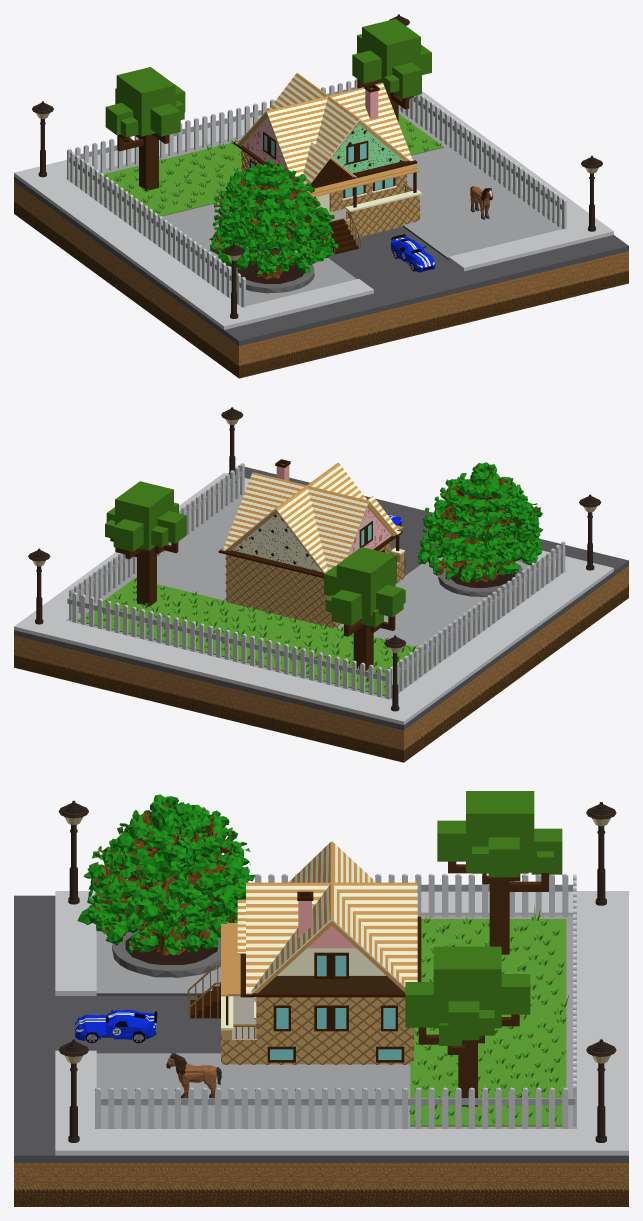
The picture shows the model from 3 angles, top to bottom: view 1: azimuth 30°, elevation 25°; view 2: azimuth 150°, elevation 25°; view 3: azimuth 270°, elevation 25°; orthographic projection. The views are drawn at different scales.
Parts seen in each view (by area): view 1: Cube.004, Cube.1102, OBJRANDOM_CEIBA, VEHICLES_RACING_CAR, ANIMAL_CABALLO; view 2: Cube.004, Cube.1102, OBJRANDOM_CEIBA; view 3: Cube.004, Cube.1102, OBJRANDOM_CEIBA, VEHICLES_RACING_CAR, ANIMAL_CABALLO.
Part boxes in pixels (bbox=[...]): Cube.004: bbox=[14, 14, 628, 378]; Cube.1102: bbox=[233, 73, 422, 255]; OBJRANDOM_CEIBA: bbox=[209, 160, 338, 293]; VEHICLES_RACING_CAR: bbox=[390, 234, 435, 272]; ANIMAL_CABALLO: bbox=[470, 186, 492, 219]; Cube.004: bbox=[14, 407, 628, 762]; Cube.1102: bbox=[218, 459, 406, 628]; OBJRANDOM_CEIBA: bbox=[416, 462, 543, 596]; Cube.004: bbox=[14, 791, 628, 1206]; Cube.1102: bbox=[187, 841, 421, 1064]; OBJRANDOM_CEIBA: bbox=[77, 794, 255, 977]; VEHICLES_RACING_CAR: bbox=[74, 1009, 157, 1043]; ANIMAL_CABALLO: bbox=[166, 1053, 221, 1098].
Size of the model in its own units: 4000 by 1551 by 4000.
34 materials, 5 textured.
